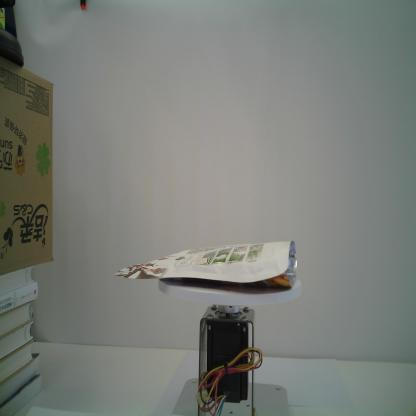Dried Fruit: (114, 239, 298, 290)
